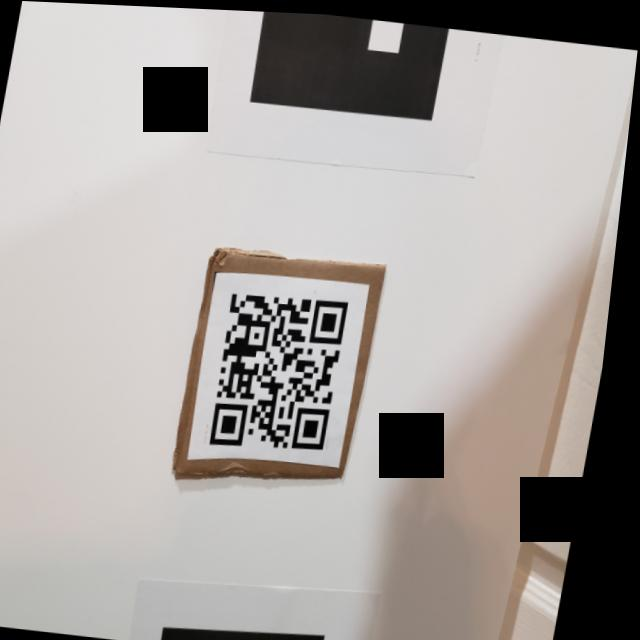QR_CODE: (209, 274, 365, 464)
